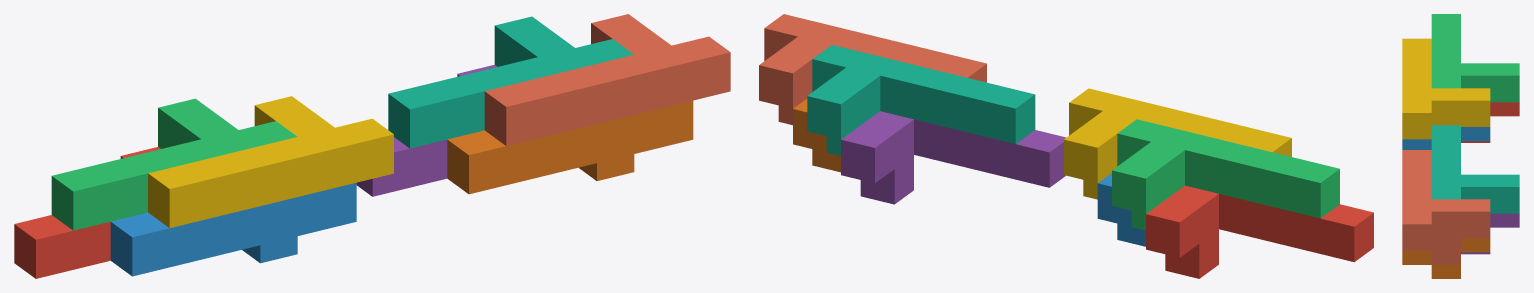
The model's file is tiling.obj.
3 views of the same model, side by side, from view 1: azimuth 30°, elevation 25°; view 2: azimuth 150°, elevation 25°; view 3: azimuth 270°, elevation 25° (orthographic). The views are drawn at different scales.
Visible parts, largest first — view 1: copy_1_domain_8, copy_1_domain_4, copy_1_domain_6, copy_1_domain_2, copy_1_domain_7, copy_1_domain_3, copy_1_domain_1, copy_1_domain_5; view 2: copy_1_domain_7, copy_1_domain_3, copy_1_domain_1, copy_1_domain_5, copy_1_domain_8, copy_1_domain_4, copy_1_domain_6, copy_1_domain_2; view 3: copy_1_domain_8, copy_1_domain_4, copy_1_domain_3, copy_1_domain_7, copy_1_domain_6, copy_1_domain_2, copy_1_domain_5, copy_1_domain_1.
Part boxes in pixels (x1,y1,x2,y2): copy_1_domain_8: [484, 14, 730, 145]; copy_1_domain_4: [148, 96, 393, 227]; copy_1_domain_6: [447, 100, 693, 194]; copy_1_domain_2: [110, 182, 356, 276]; copy_1_domain_7: [388, 16, 633, 148]; copy_1_domain_3: [51, 98, 297, 230]; copy_1_domain_1: [14, 147, 160, 278]; copy_1_domain_5: [356, 64, 497, 196]; copy_1_domain_7: [807, 45, 1035, 155]; copy_1_domain_3: [1112, 119, 1339, 230]; copy_1_domain_1: [1146, 185, 1373, 278]; copy_1_domain_5: [841, 111, 1066, 204]; copy_1_domain_8: [759, 14, 986, 125]; copy_1_domain_4: [1064, 88, 1291, 199]; copy_1_domain_6: [793, 98, 840, 172]; copy_1_domain_2: [1097, 173, 1145, 246]; copy_1_domain_8: [1402, 150, 1490, 264]; copy_1_domain_4: [1402, 38, 1490, 139]; copy_1_domain_3: [1431, 14, 1519, 102]; copy_1_domain_7: [1431, 125, 1519, 213]; copy_1_domain_6: [1402, 238, 1490, 278]; copy_1_domain_2: [1402, 127, 1490, 149]; copy_1_domain_5: [1461, 213, 1519, 254]; copy_1_domain_1: [1461, 102, 1519, 142].
Size of the model in its own units: 18 by 3 by 4.
